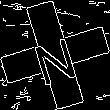N_N: (28, 25, 82, 85)
